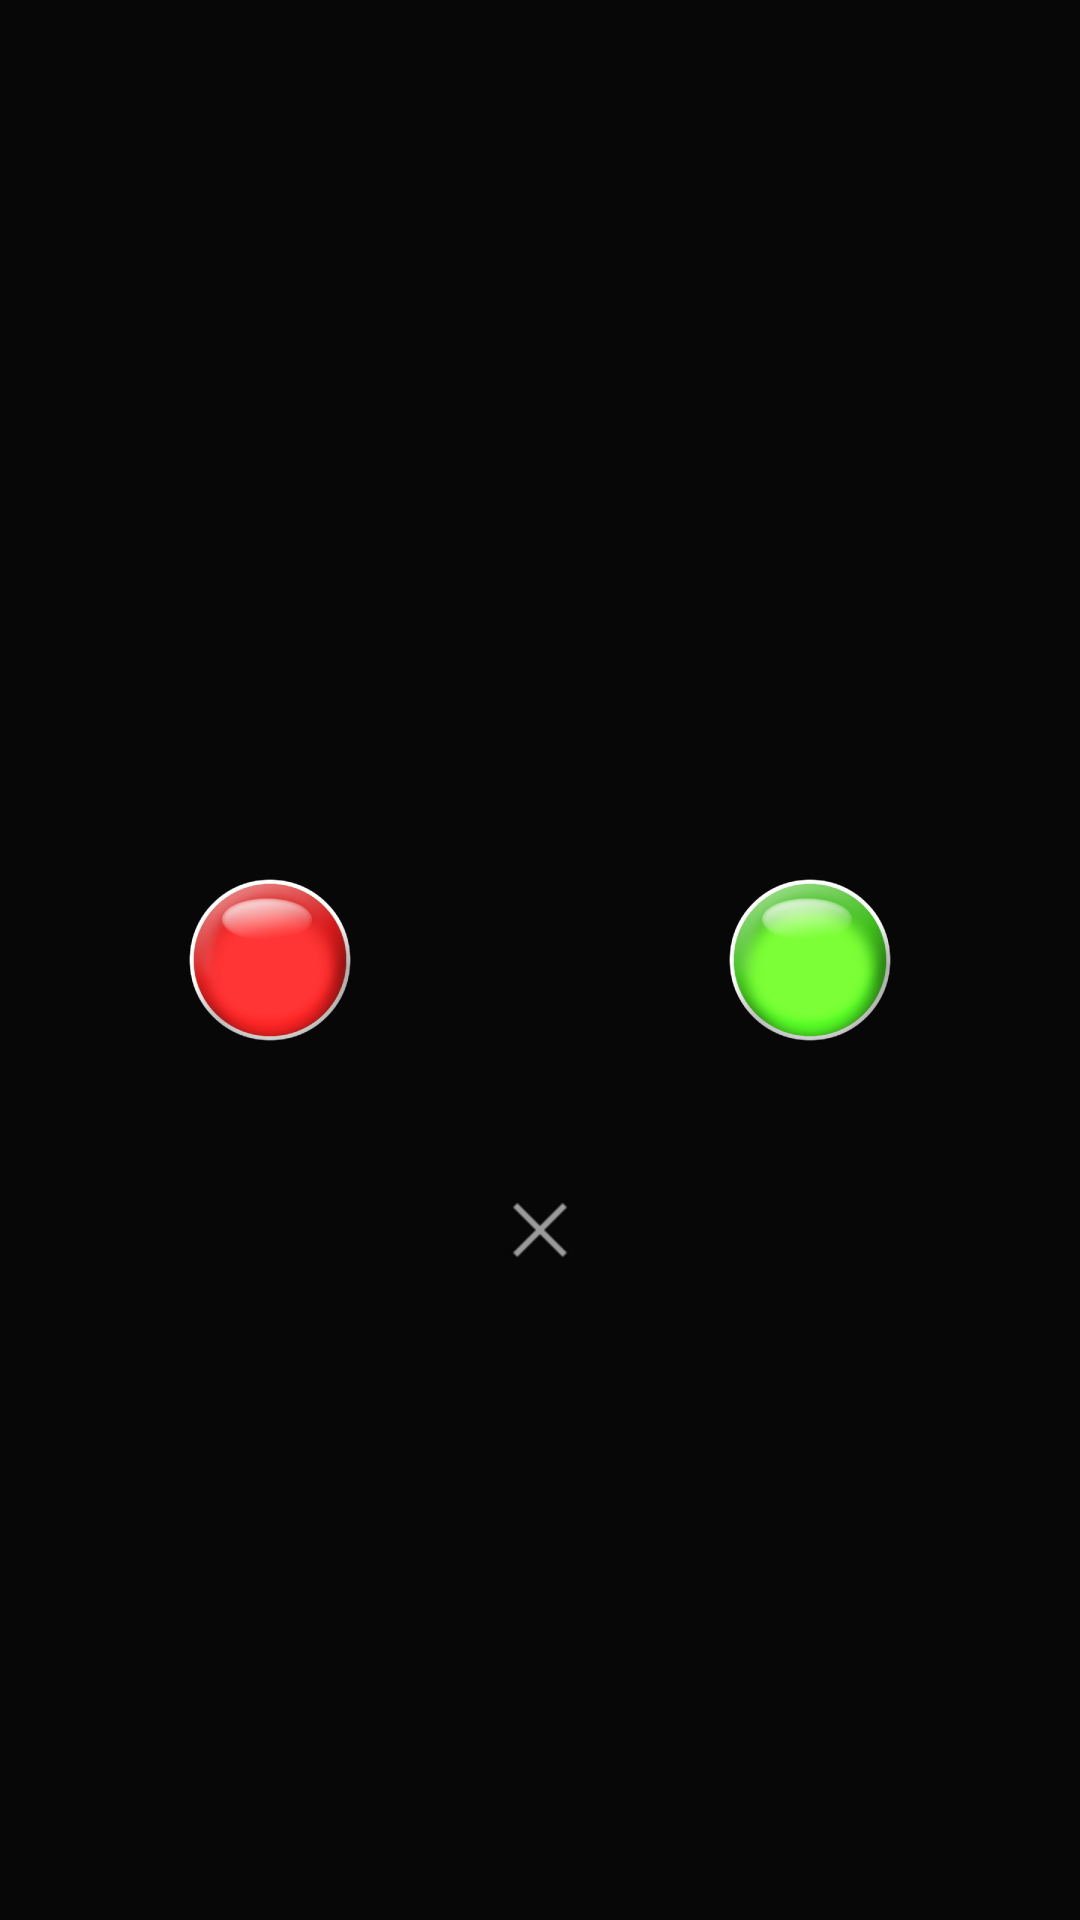

Icons on this 1080x1920 Android screen, each with its box as (x1, y1, x2, y2):
circle: (189, 879, 351, 1041), (729, 879, 891, 1041)
close clear cancel: (513, 1203, 567, 1257)
